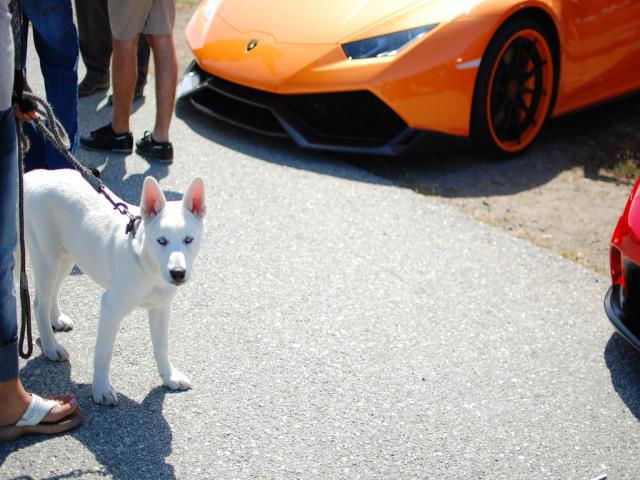Dog: (11, 169, 207, 406)
